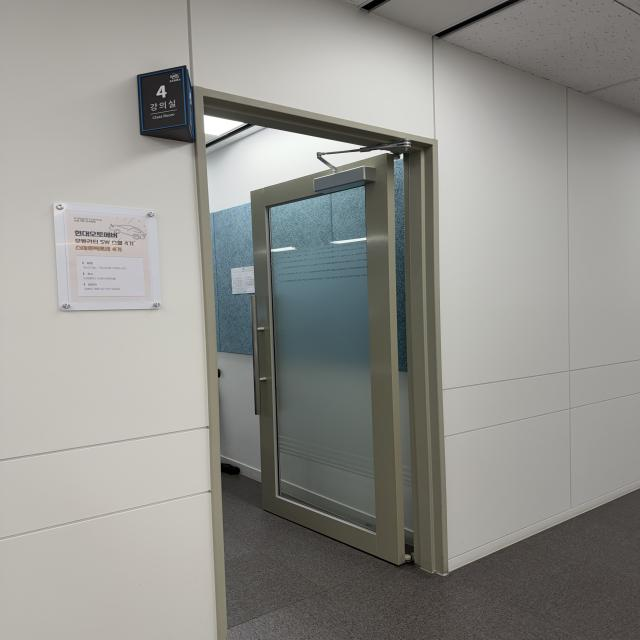sign: (139, 70, 184, 121)
